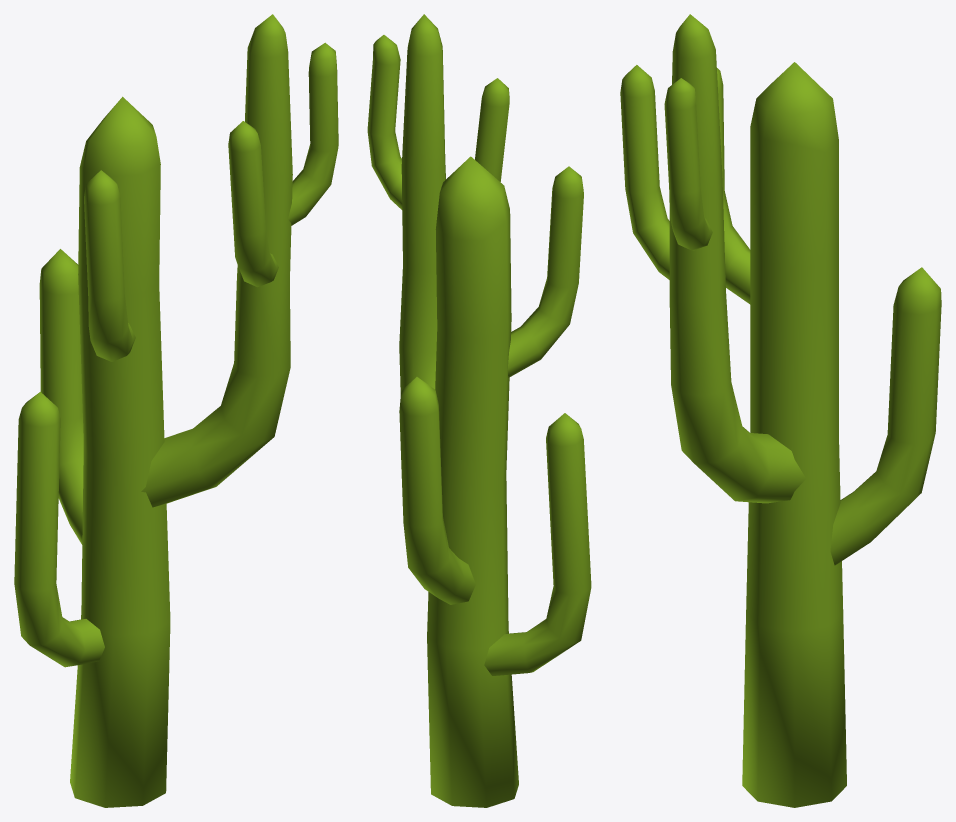
File: Cactus_Lime_Smooth_1.fbx
The picture shows the model from 3 angles, left to right: view 1: azimuth 30°, elevation 25°; view 2: azimuth 150°, elevation 25°; view 3: azimuth 270°, elevation 25°; orthographic projection. The views are drawn at different scales.
Parts seen in each view (by area): view 1: Cactus; view 2: Cactus; view 3: Cactus.
Part boxes in pixels (bbox=[...]): Cactus: bbox=[14, 14, 338, 807]; Cactus: bbox=[367, 14, 591, 807]; Cactus: bbox=[620, 14, 941, 807].
Size of the model in its own units: 157 by 421 by 148.
